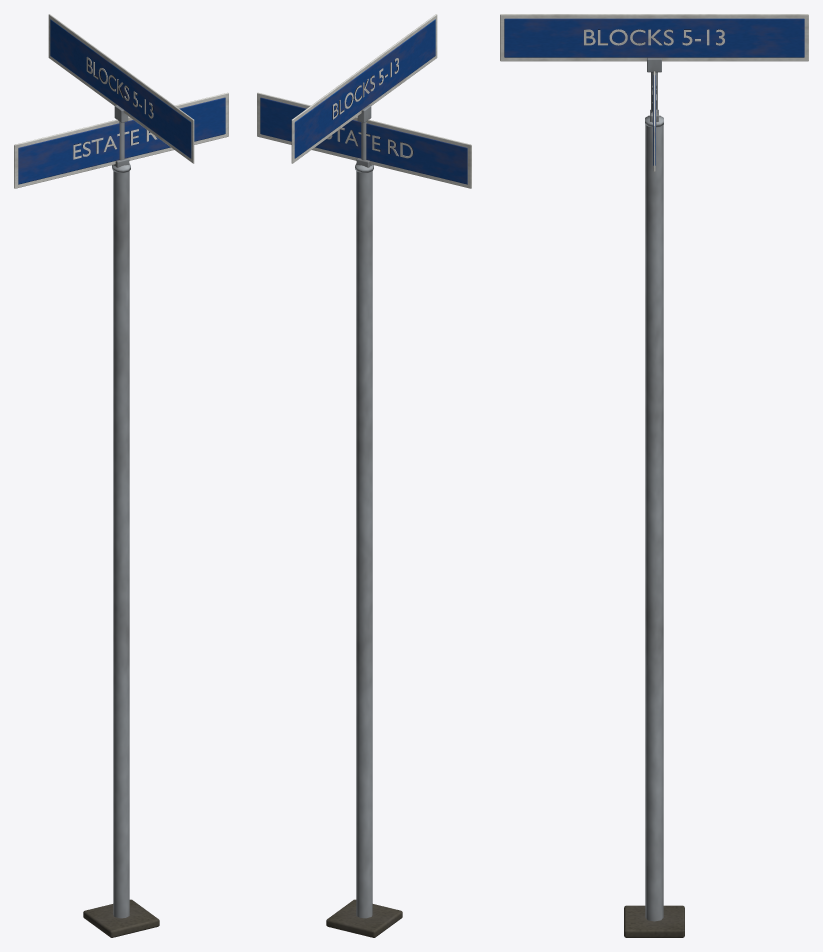
File: znak_ulica_d.glb
3 views of the same model, side by side, from view 1: azimuth 30°, elevation 25°; view 2: azimuth 150°, elevation 25°; view 3: azimuth 270°, elevation 25° (orthographic). The views are drawn at different scales.
Parts seen in each view (by area): view 1: Slupek, Tarcza; view 2: Slupek, Tarcza; view 3: Slupek, Tarcza.
Part boxes in pixels (box(x1,y1,x2,y2)): Slupek: box(83, 105, 159, 937); Tarcza: box(14, 14, 228, 188); Slupek: box(326, 105, 402, 937); Tarcza: box(257, 14, 471, 188); Slupek: box(624, 57, 684, 937); Tarcza: box(500, 14, 808, 171).
Bounding box in the file's own units: 0.866 × 3.3 × 1.01.
Materials: 2 (2 with a texture image).
